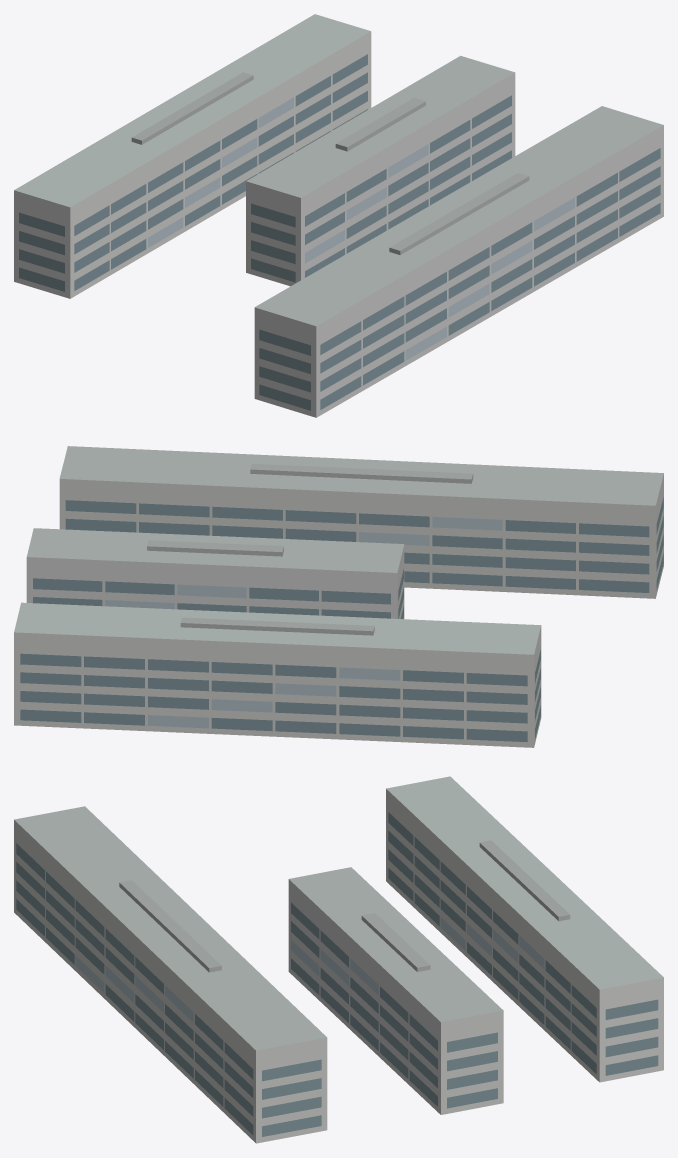
File: apt-a13983101.glb
3 renders of one model, top to bottom at view 1: azimuth 30°, elevation 25°; view 2: azimuth 150°, elevation 25°; view 3: azimuth 270°, elevation 25°, orthographic.
Visible parts, largest first — view 1: apt-a13983101; view 2: apt-a13983101; view 3: apt-a13983101.
Boxes of the visible parts, x1,y1,x2,y2 form: apt-a13983101: [14, 14, 663, 417]; apt-a13983101: [14, 446, 663, 747]; apt-a13983101: [14, 776, 663, 1143].
Bounding box in the file's own units: 84.71 × 14 × 84.8.
